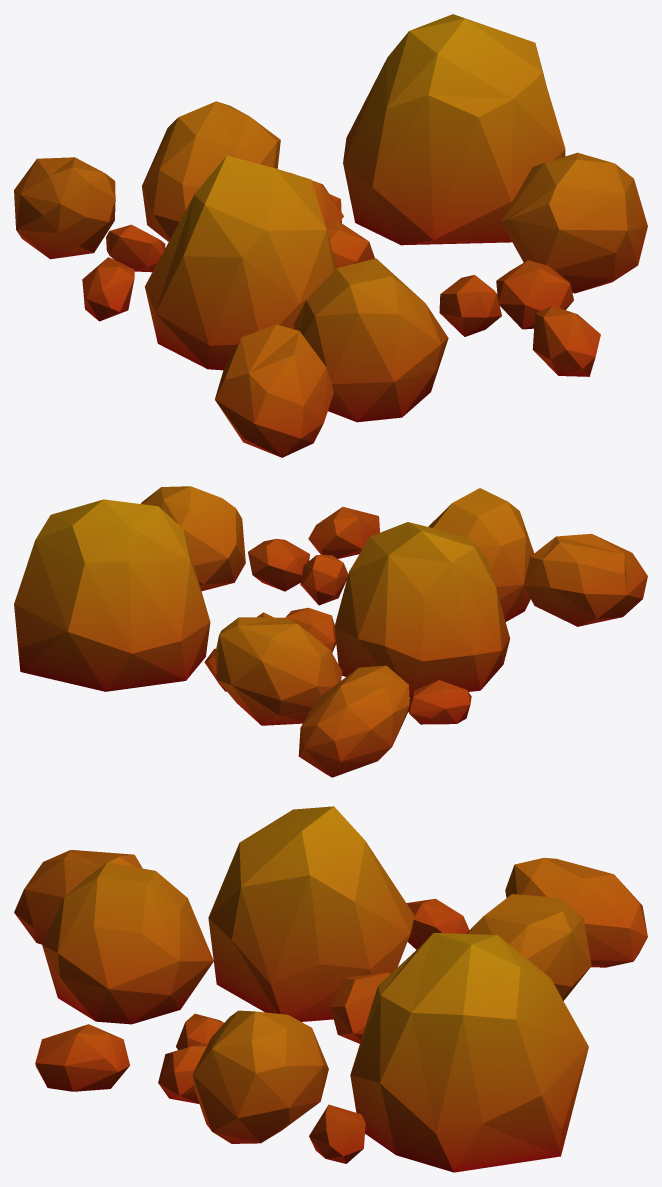
The model's file is rubble_2.glb.
The picture shows the model from 3 angles, top to bottom: view 1: azimuth 30°, elevation 25°; view 2: azimuth 150°, elevation 25°; view 3: azimuth 270°, elevation 25°; orthographic projection. The views are drawn at different scales.
Visible parts, largest first — view 1: rubble_2; view 2: rubble_2; view 3: rubble_2.
Boxes of the visible parts, left/top/right/bottom form: rubble_2: left=14, top=14, right=647, bottom=457; rubble_2: left=14, top=486, right=647, bottom=777; rubble_2: left=14, top=806, right=647, bottom=1172.
Size of what is drawn, in the model's own units: 2.28 by 0.7706 by 2.39.
